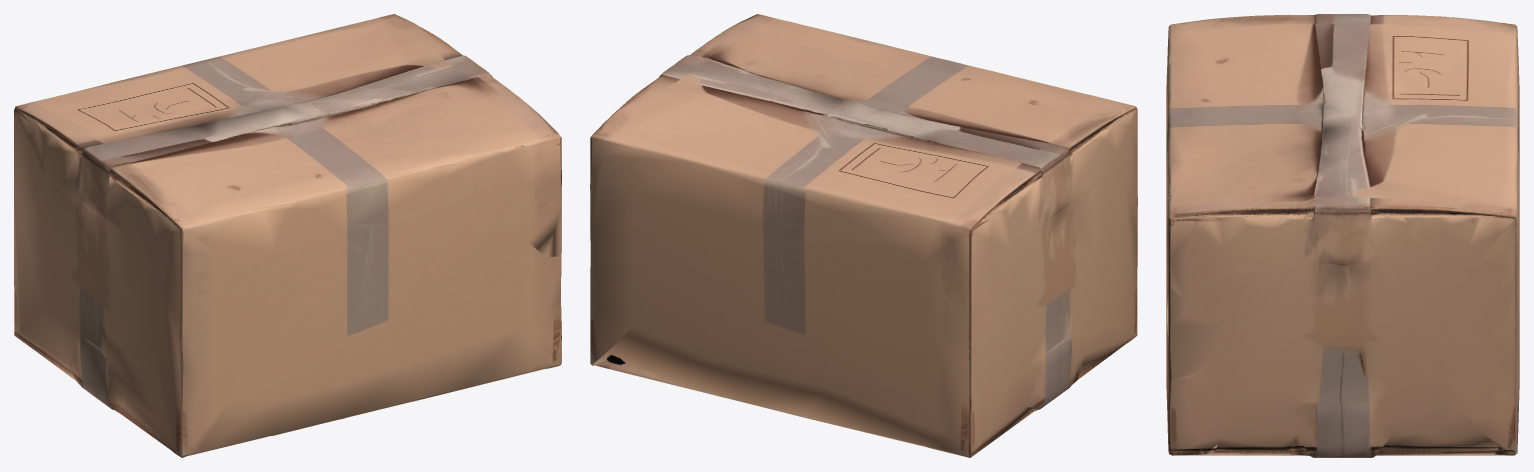
3 views of the same model, side by side, from view 1: azimuth 30°, elevation 25°; view 2: azimuth 150°, elevation 25°; view 3: azimuth 270°, elevation 25° (orthographic). The views are drawn at different scales.
Visible parts, largest first — view 1: Mesh1.0; view 2: Mesh1.0; view 3: Mesh1.0.
Part boxes in pixels (x1=…): Mesh1.0: x1=14, y1=14, x2=561, y2=457; Mesh1.0: x1=590, y1=14, x2=1137, y2=457; Mesh1.0: x1=1166, y1=14, x2=1519, y2=457.
Bounding box in the file's own units: 190 × 116 × 143.
1 material, 1 textured.
